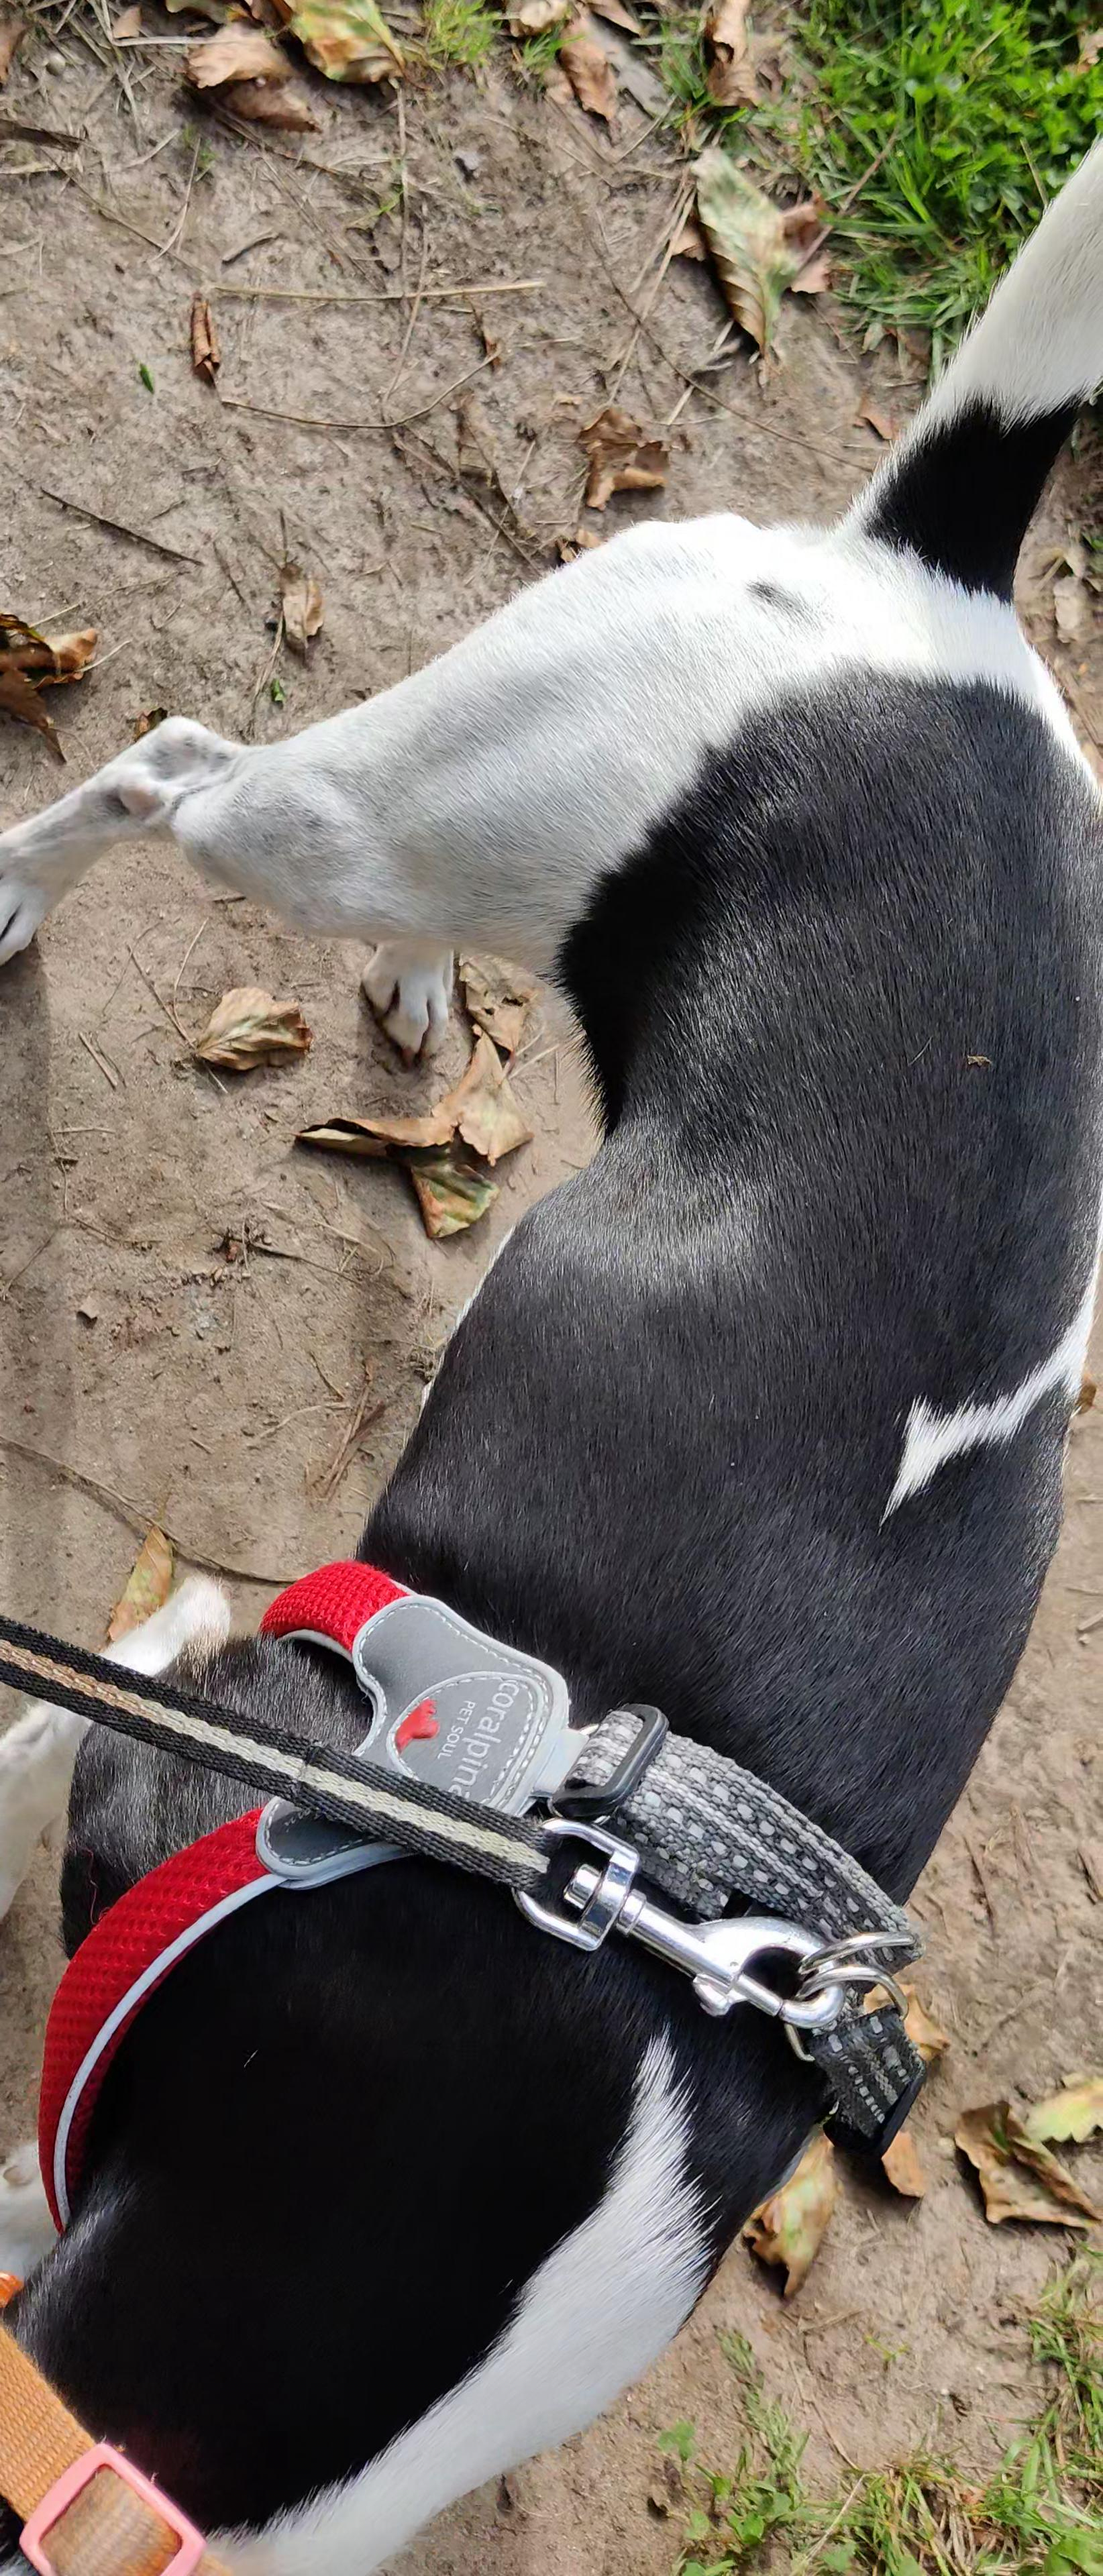Dog: (0, 125, 1103, 2576)
